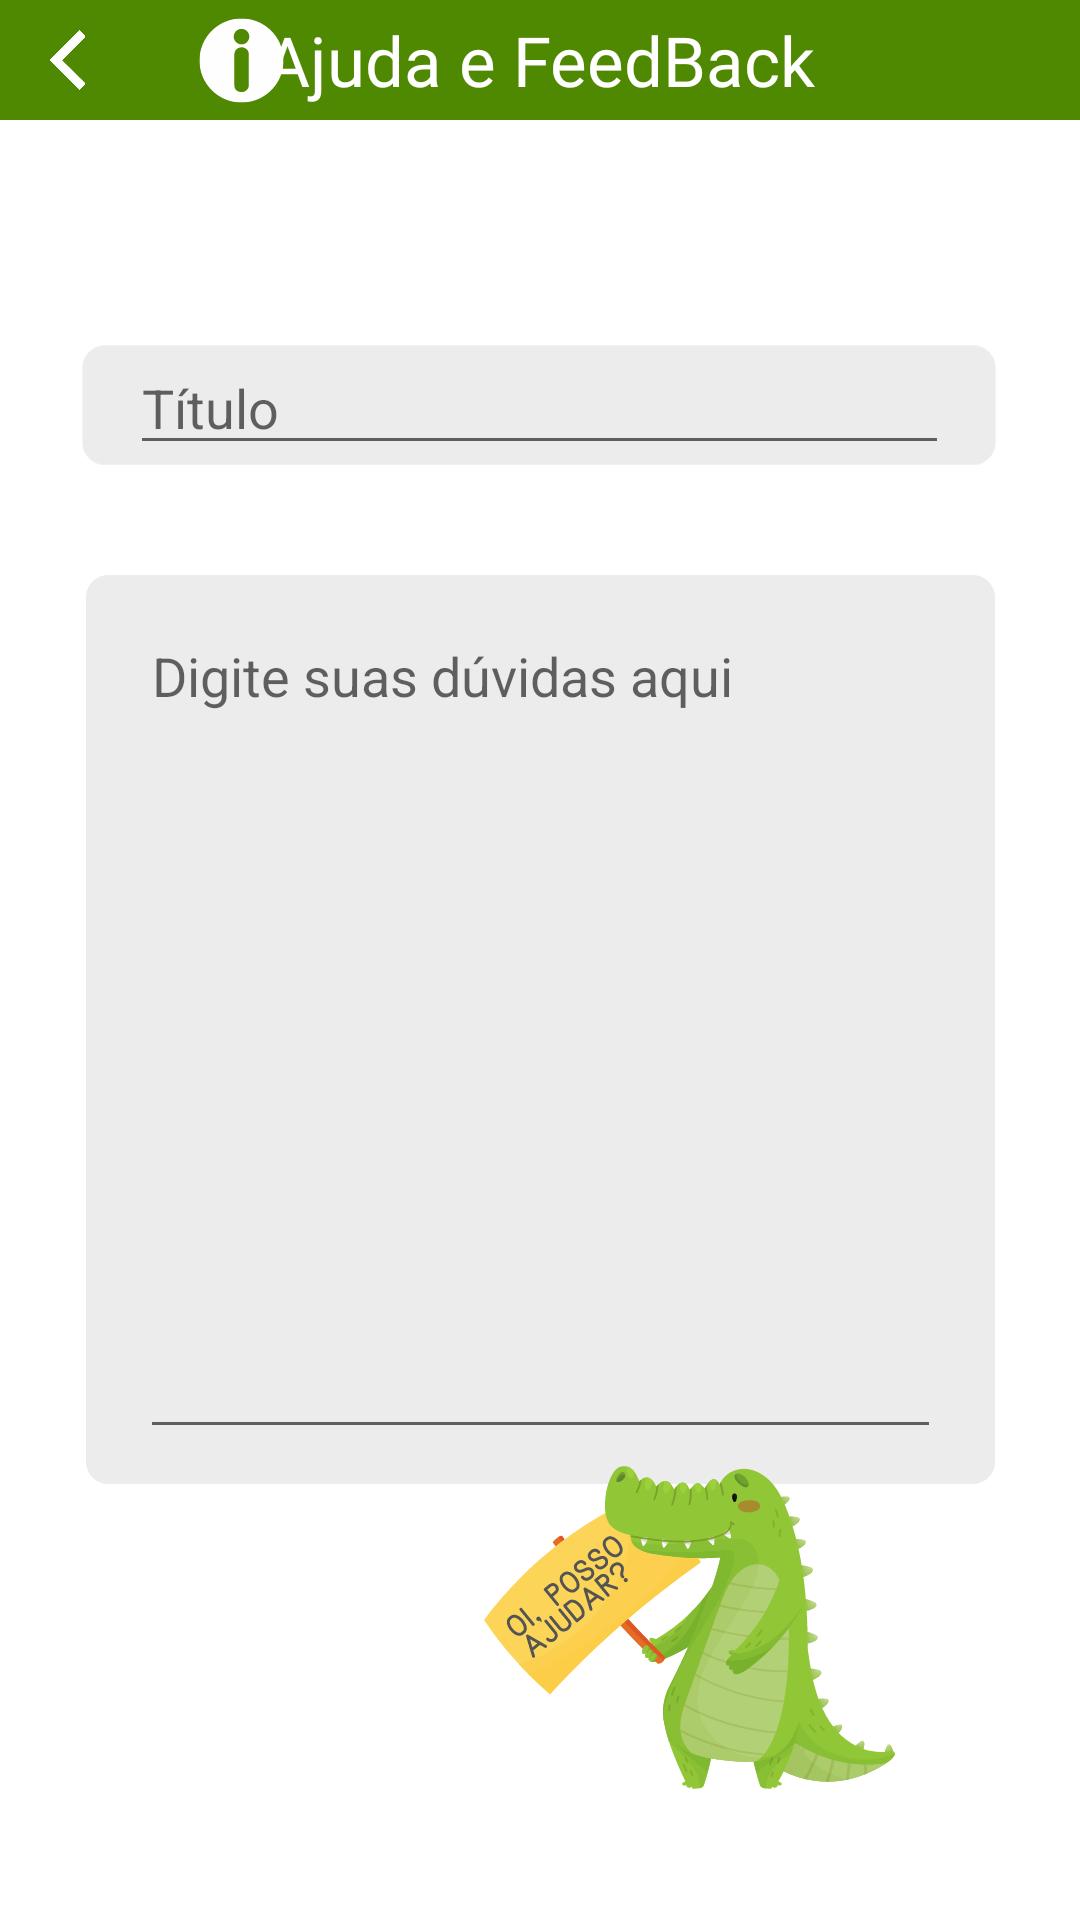

Icon bounding boxes for this 1080 x 1920 phone screenshot, format (x1, y1, x2, y2):
seta branca pg: (50, 30, 85, 90)
